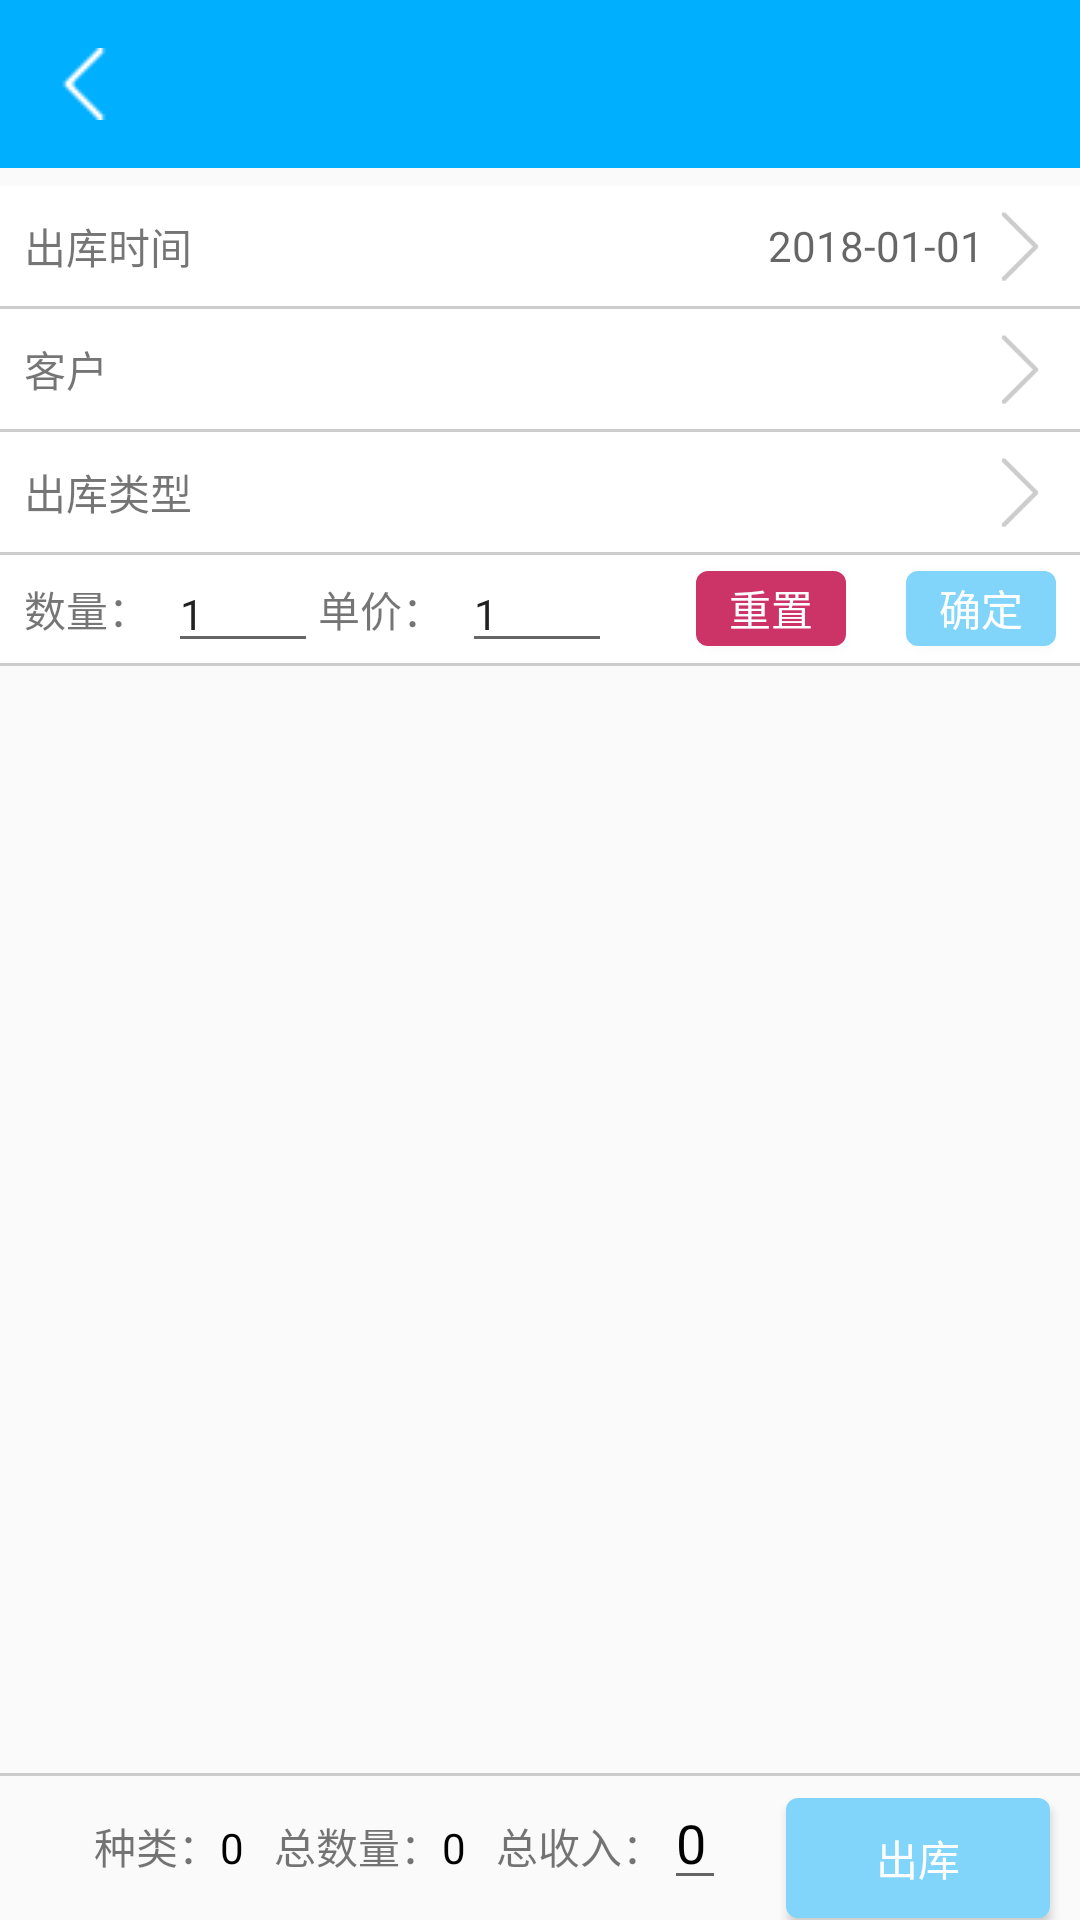

Point at icon controls on the screen. Image size 1080*1920, points as point (x, y).
arrow right: point (1020, 247), point (1020, 370), point (1020, 493)
